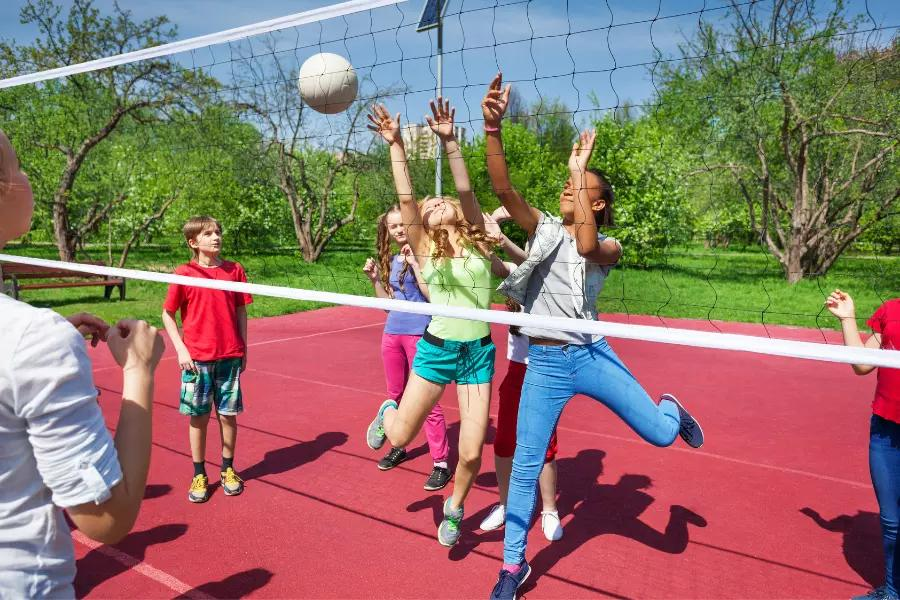ballon_volley: (298, 52, 359, 115)
